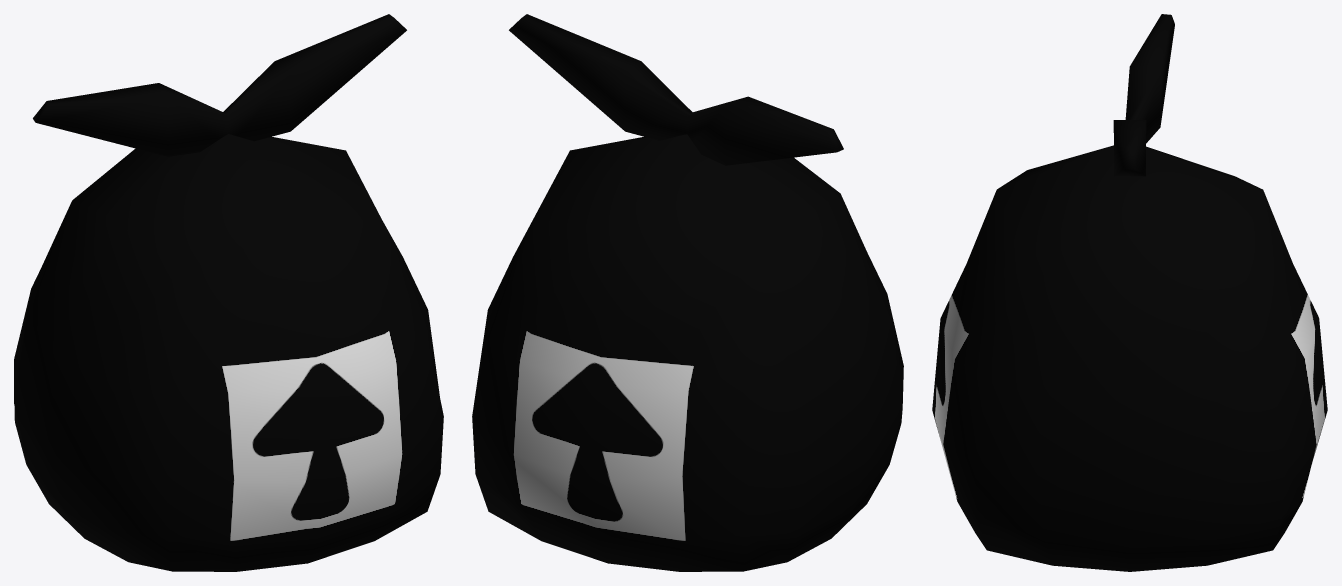
Rendered from mushroombag.fbx.
3 views of the same model, side by side, from view 1: azimuth 30°, elevation 25°; view 2: azimuth 150°, elevation 25°; view 3: azimuth 270°, elevation 25° (orthographic). The views are drawn at different scales.
Visible parts, largest first — view 1: Cube.023; view 2: Cube.023; view 3: Cube.023.
Boxes of the visible parts, x1,y1,x2,y2 form: Cube.023: [14, 14, 443, 571]; Cube.023: [472, 14, 903, 571]; Cube.023: [932, 14, 1327, 571].
Size of the model in its own units: 85.52 by 108 by 84.2.
1 material, 1 textured.
